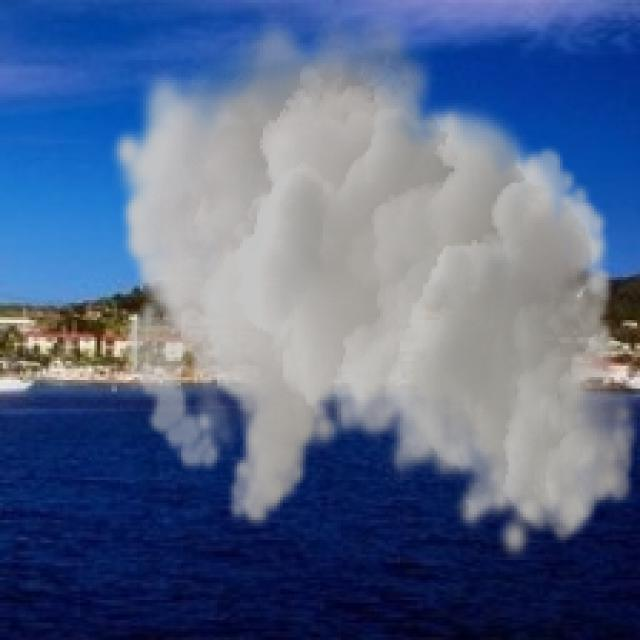Smoke: (108, 0, 638, 566)
